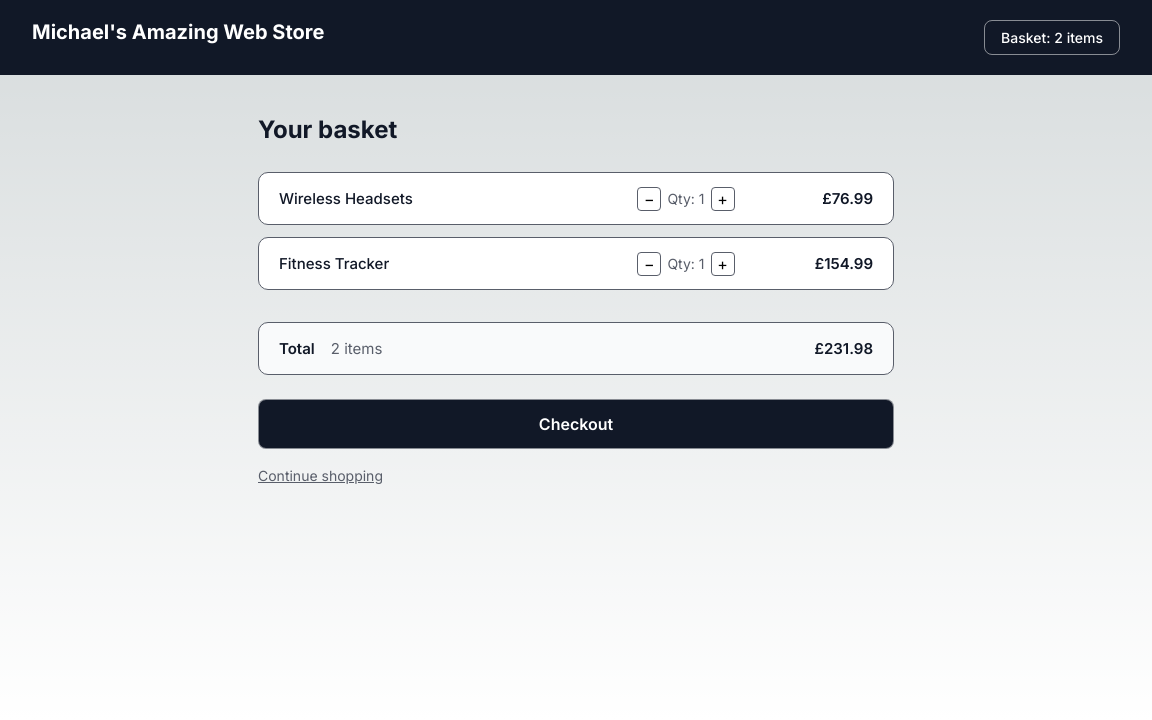
CheckoutPage — qty controls › decrementing an item to zero removes it from the list
This screenshot has width=1152, height=720.
Step 1. Click the button named "- Remove one Wireless Headsets from basket" → coordinates (649, 198), box [637,186,661,210]
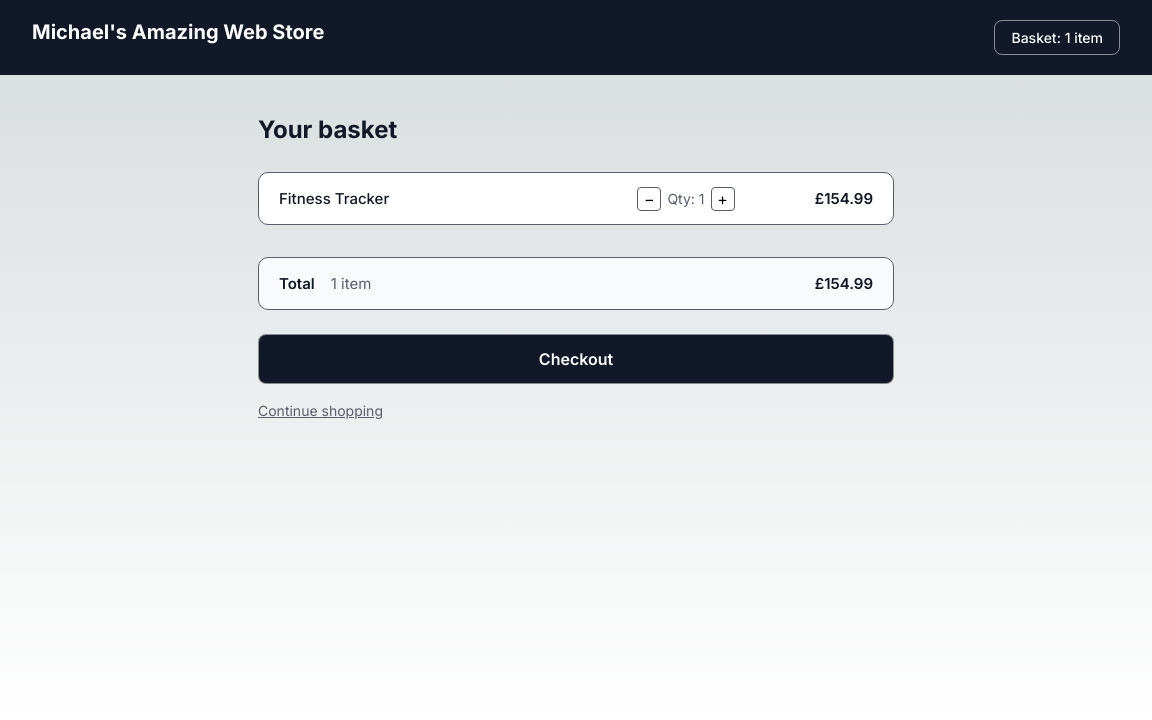
Expected: the text "Fitness Tracker" is shown, [279,189,389,208]
Result: the text "Wireless Headsets" is gone
Result: the link "Basket: 1 item" is shown at [994,20,1120,55]
